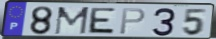3: (150, 6, 178, 37)
5: (181, 7, 208, 36)
8: (30, 5, 55, 36)
E: (86, 7, 118, 36)
M: (53, 6, 91, 36)
P: (118, 8, 147, 36)
